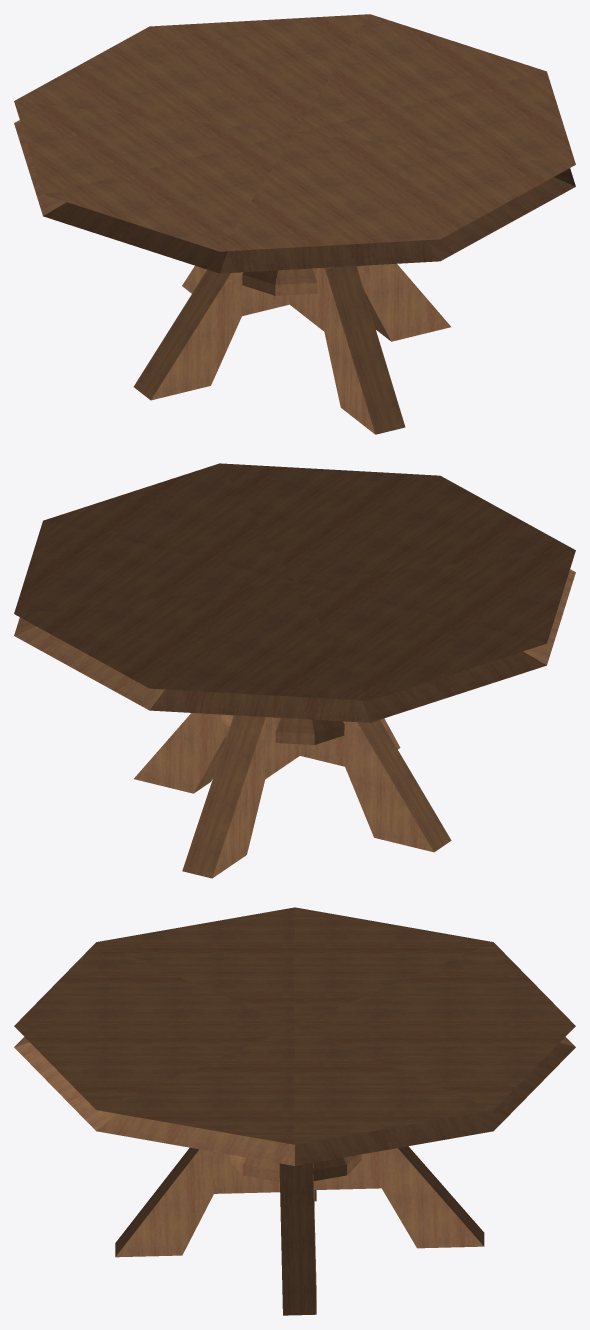
File: mesaBoliche.obj
The picture shows the model from 3 angles, top to bottom: view 1: azimuth 30°, elevation 25°; view 2: azimuth 150°, elevation 25°; view 3: azimuth 270°, elevation 25°; orthographic projection. The views are drawn at different scales.
Parts seen in each view (by area): view 1: Body, Cube, Cube__17_; view 2: Body, Cube, Cube__17_; view 3: Body, Cube__17_, Cube.
Boxes of the visible parts, <box> form: Body: <box>14,14,575,295</box>; Cube: <box>133,263,450,400</box>; Cube__17_: <box>182,265,405,434</box>; Body: <box>14,463,575,744</box>; Cube: <box>134,713,451,852</box>; Cube__17_: <box>182,715,400,878</box>; Body: <box>14,907,575,1181</box>; Cube__17_: <box>115,1146,484,1257</box>; Cube: <box>279,1163,316,1315</box>.
Bounding box in the file's own units: 8.38 × 3.67 × 8.38.
1 material, 1 textured.
